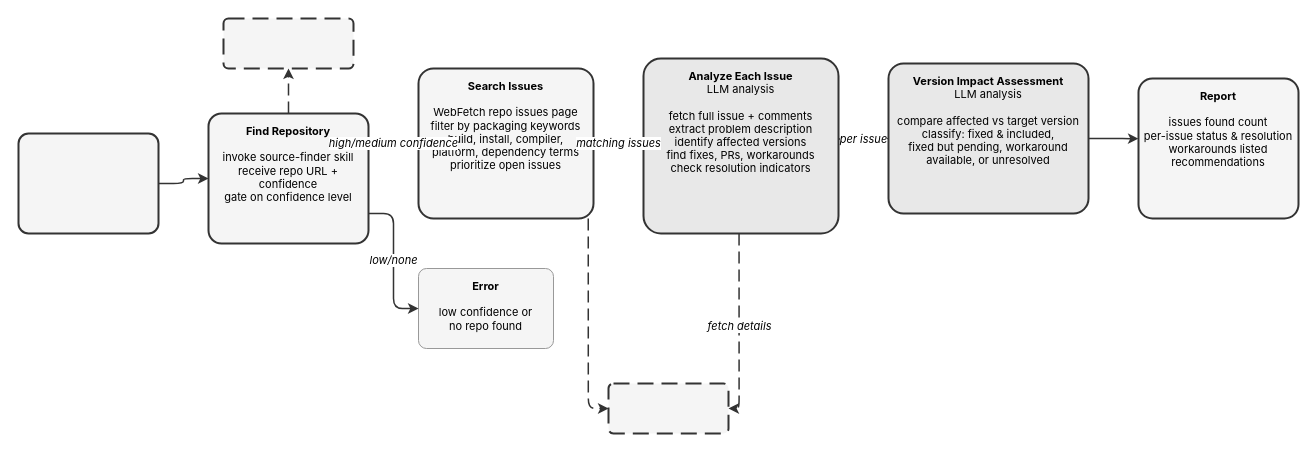
Image size: 1316x451. Some labels were removed from this diagram. Each missing label, with the centre of its shape:
"/python-packaging-bug-finder package name target version" goes at [88,183].
"/python-packaging-source-finder" goes at [288,43].
"GitHub Issues" goes at [668,408].
